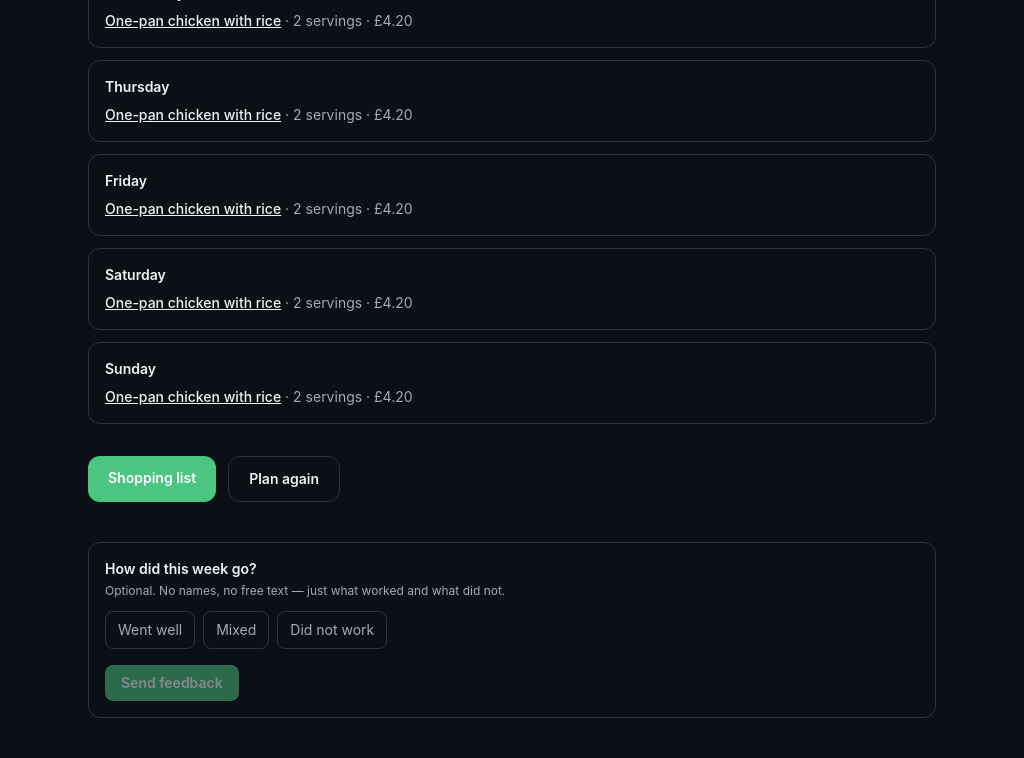
Test: end-of-week feedback › records a rating without asking for free text
(page scrolled)
Click the radio button labelled "Went well". click: click(150, 630)
box: [105, 611, 195, 649]
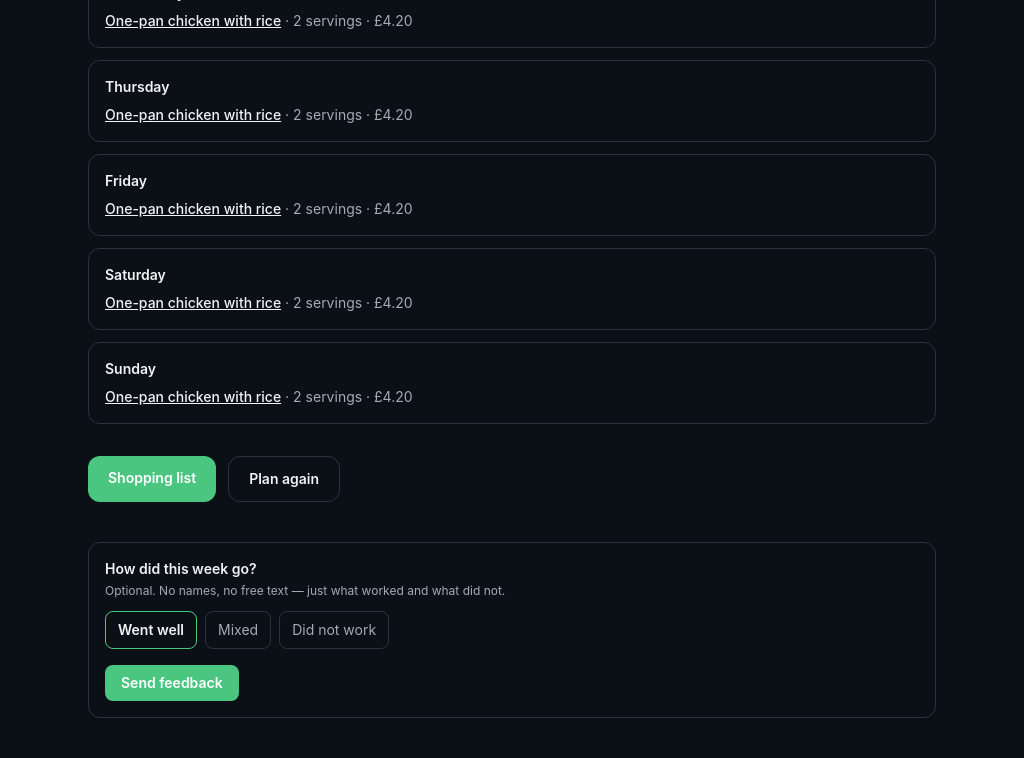
Click the button "Send feedback". click: click(172, 683)
box: [105, 665, 239, 701]
(page scrolled)
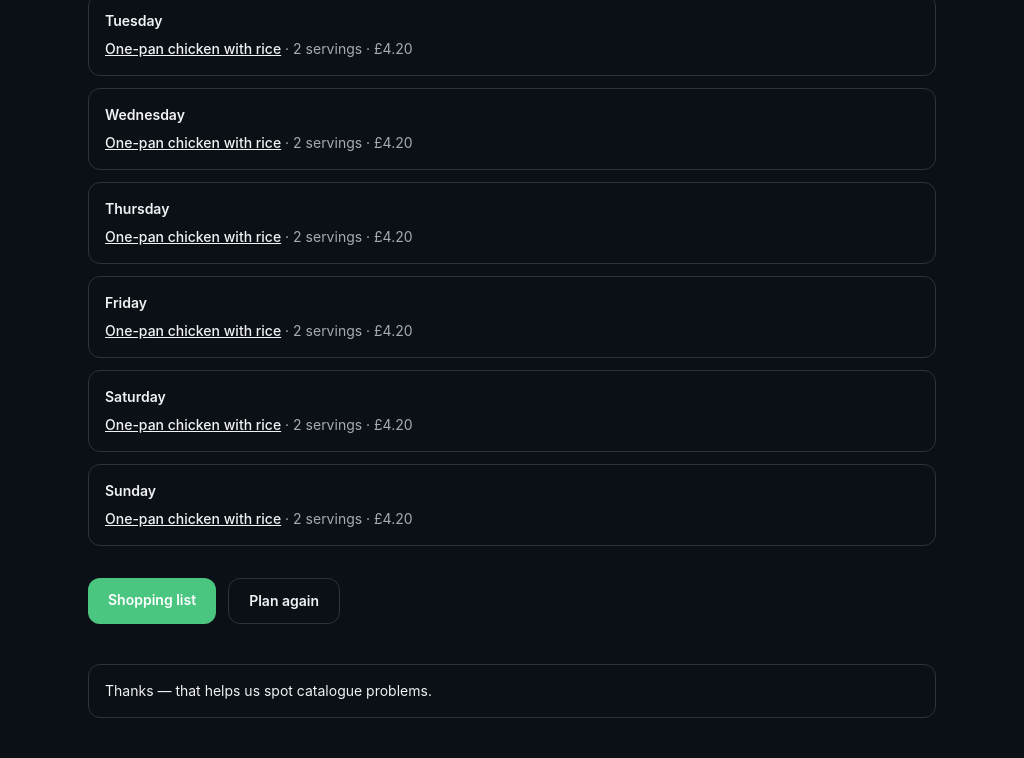
Check: the message shows "Thanks", box [105, 682, 432, 699]
